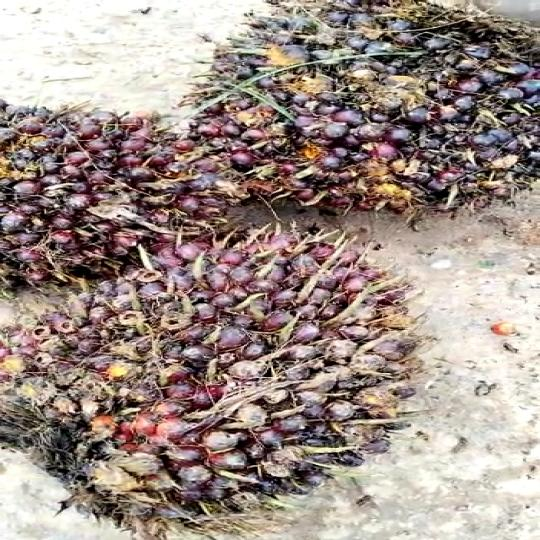kurang masak: (0, 227, 417, 531), (182, 6, 540, 220), (0, 95, 258, 280)
